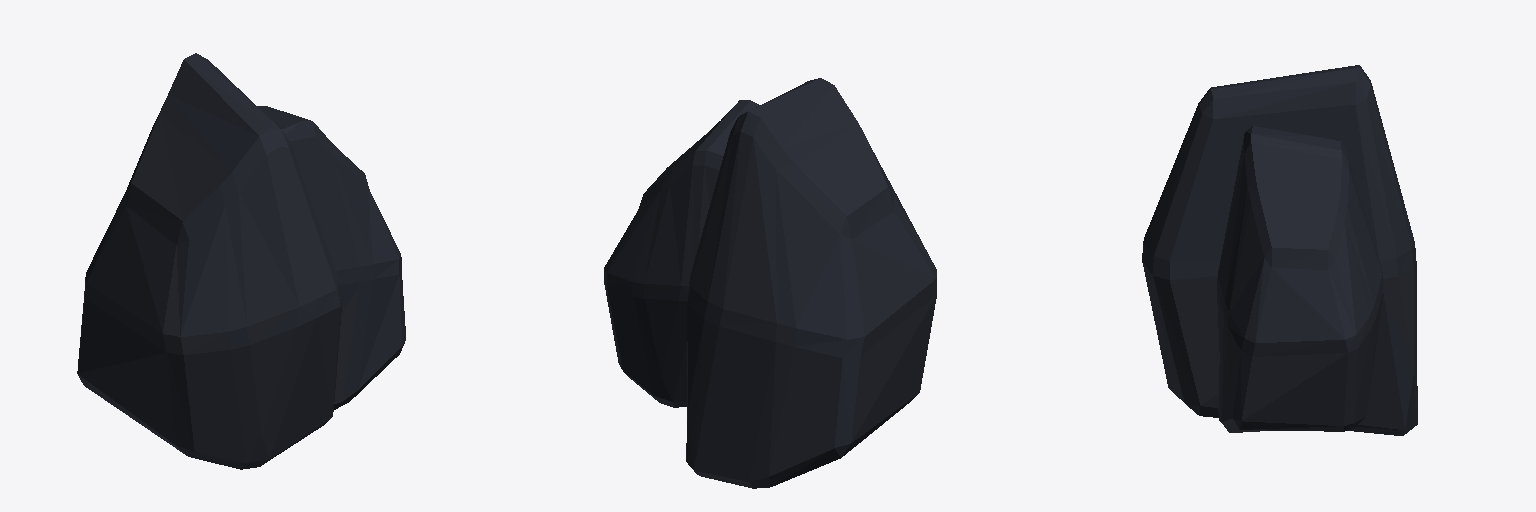
File: Rock_2.obj
3 renders of one model, left to right at view 1: azimuth 30°, elevation 25°; view 2: azimuth 150°, elevation 25°; view 3: azimuth 270°, elevation 25°, orthographic.
Parts seen in each view (by area): view 1: Rock_2_Cube.421; view 2: Rock_2_Cube.421; view 3: Rock_2_Cube.421.
Boxes of the visible parts, x1,y1,x2,y2 form: Rock_2_Cube.421: [77, 53, 405, 469]; Rock_2_Cube.421: [604, 78, 936, 488]; Rock_2_Cube.421: [1142, 65, 1417, 435].
Size of the model in its own units: 1.63 by 2.1 by 1.46.